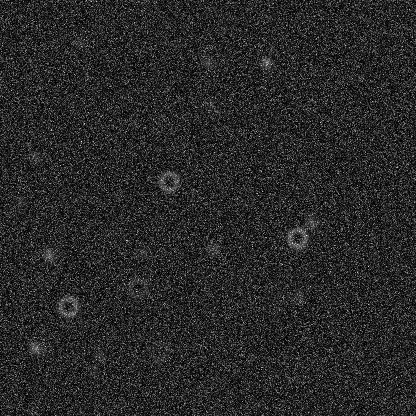Ring: (146, 339, 170, 363), (125, 276, 149, 300), (285, 225, 309, 249), (156, 169, 180, 193), (56, 294, 80, 318)
Spot: (27, 340, 43, 356), (40, 246, 56, 262), (204, 240, 220, 256), (199, 53, 215, 69), (39, 339, 55, 355), (202, 98, 218, 114), (84, 364, 100, 380), (12, 192, 28, 208), (90, 348, 106, 364), (71, 35, 87, 51), (291, 287, 307, 303), (258, 54, 274, 70), (303, 214, 319, 230), (27, 148, 43, 164), (133, 244, 149, 260)
